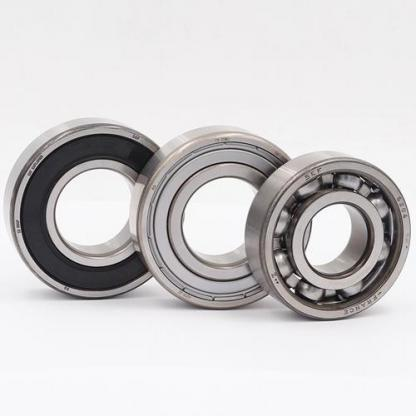FOD: (127, 128, 314, 313), (5, 117, 176, 302), (243, 145, 415, 323)
